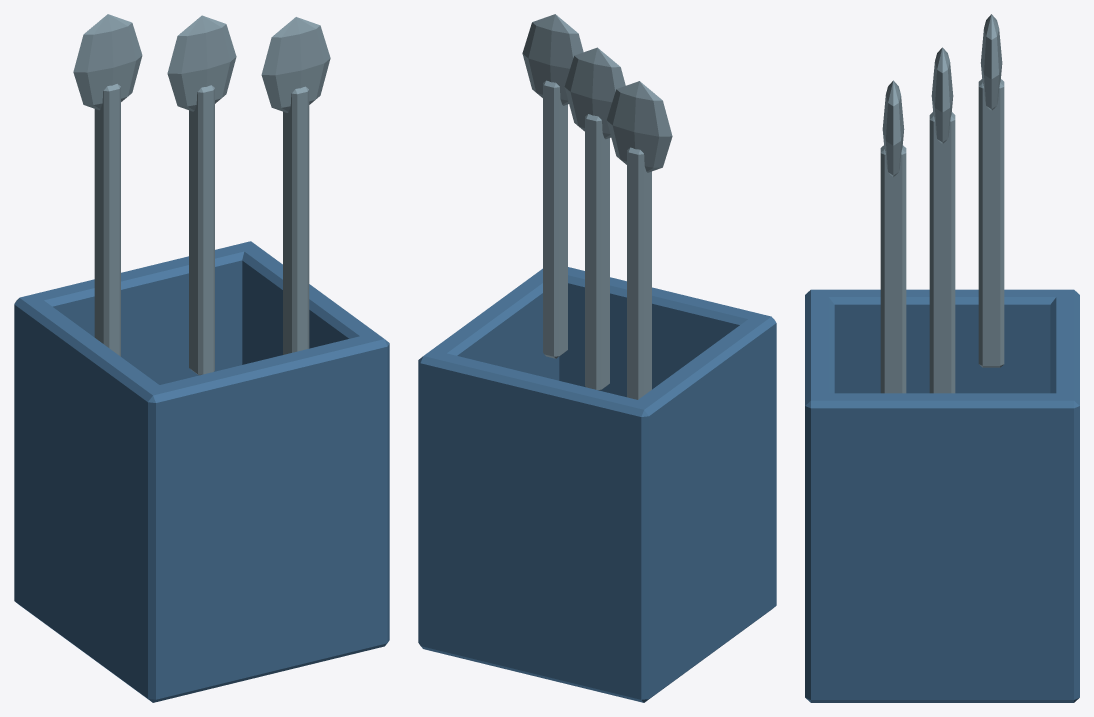
File: cutlery_holder.glb
3 views of the same model, side by side, from view 1: azimuth 30°, elevation 25°; view 2: azimuth 150°, elevation 25°; view 3: azimuth 270°, elevation 25° (orthographic). The views are drawn at different scales.
Visible parts, largest first — view 1: holder_wall (×2), holder_side (×2), cutlery_stem (×3), spoon_head (×3), holder_floor; view 2: holder_wall (×2), holder_side (×2), cutlery_stem (×3), spoon_head (×3), holder_floor; view 3: holder_side (×2), cutlery_stem (×3), holder_wall (×2), spoon_head (×3).
Boxes of the visible parts, x1,y1,x2,y2 form: holder_wall (×2): (14,241,387,702); holder_side (×2): (14,241,389,702); cutlery_stem (×3): (94,83,309,375); spoon_head (×3): (73,14,330,112); holder_floor: (15,574,385,695); holder_wall (×2): (420,267,776,702); holder_side (×2): (418,268,776,702); cutlery_stem (×3): (543,80,651,399); spoon_head (×3): (522,14,672,172); holder_floor: (422,581,775,696); holder_side (×2): (805,289,1079,702); cutlery_stem (×3): (880,79,1004,393); holder_wall (×2): (805,289,1079,702); spoon_head (×3): (882,14,1002,176).
Bounding box in the file's own units: 0.14 × 0.3375 × 0.14.
